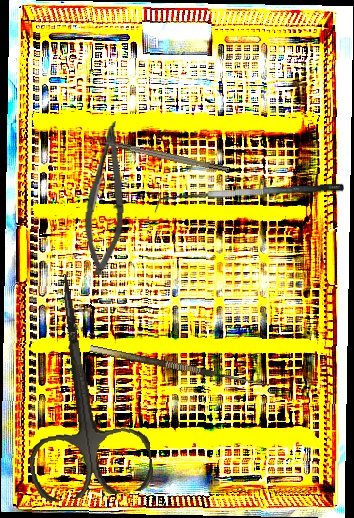Hook Surgical: (89, 335, 272, 390), (96, 136, 227, 174)
Iris Scissors: (7, 266, 156, 504)
Micro Scissor: (82, 120, 128, 276)
Spatula Surgical: (153, 181, 345, 214)
